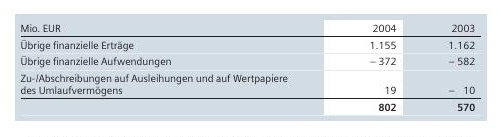table: (0, 0, 501, 137)
